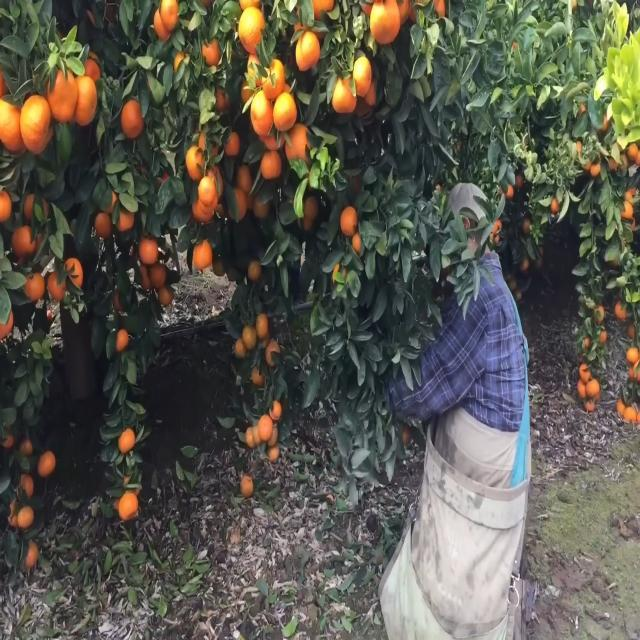Jeruk Sudah Matang: (368, 0, 408, 48), (46, 64, 78, 124), (20, 94, 50, 156), (233, 8, 271, 56), (248, 84, 278, 140), (328, 67, 358, 120), (72, 78, 101, 132), (349, 52, 377, 106), (294, 25, 320, 79), (273, 90, 300, 134), (118, 96, 144, 141), (9, 220, 39, 256), (195, 169, 219, 212), (36, 440, 60, 480), (134, 232, 160, 268), (260, 146, 284, 182), (118, 483, 140, 522), (62, 251, 86, 286), (111, 322, 133, 357), (182, 146, 205, 178), (116, 422, 136, 456), (256, 408, 274, 444), (337, 200, 356, 234), (192, 234, 212, 265)
